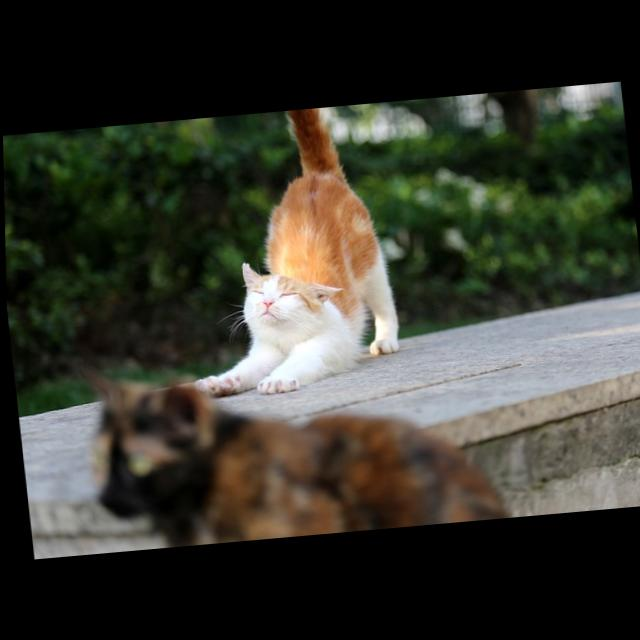animals: (82, 372, 513, 544), (195, 111, 397, 402)
